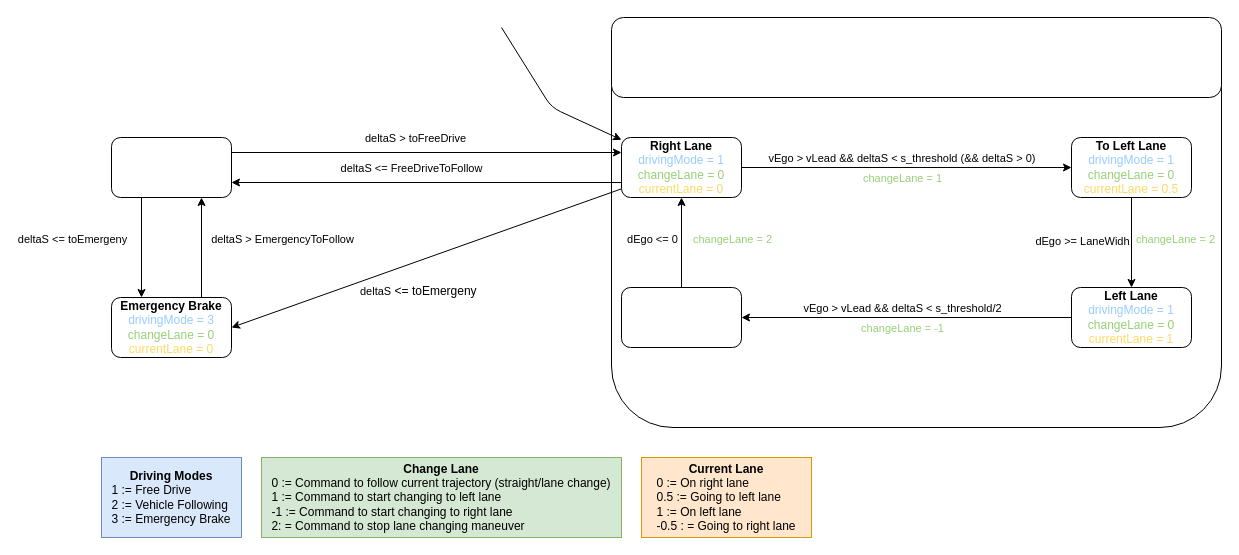
Some shapes in this 1239 by 555 pixel diagram are drawn without their labels. Each missing label, with the centre of its shape:
"Free Drive" goes at [916,57].
"To Right Lane drivingMode = 1 changeLane = 0 currentLane = -0.5" goes at [681,317].
"Vehicle Following drivingMode = 2 changeLane = 0 currentLane = 0" goes at [171,167].
